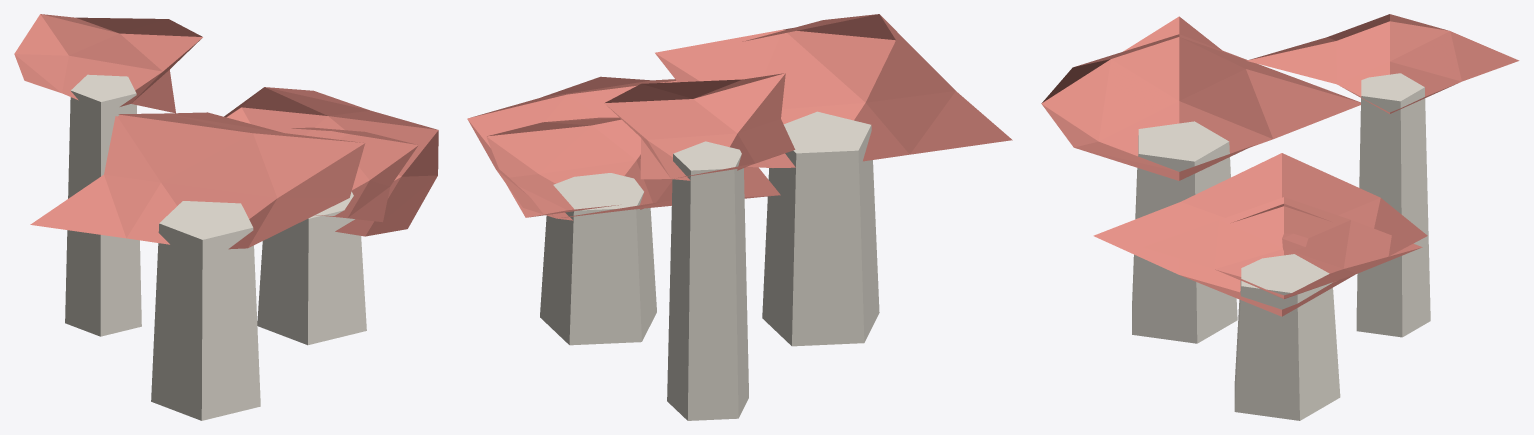
The model's file is mushroom_v14.glb.
The picture shows the model from 3 angles, left to right: view 1: azimuth 30°, elevation 25°; view 2: azimuth 150°, elevation 25°; view 3: azimuth 270°, elevation 25°; orthographic projection. The views are drawn at different scales.
Parts seen in each view (by area): view 1: lod0; view 2: lod0; view 3: lod0.
Part boxes in pixels (x1=…): lod0: x1=14, y1=14, x2=438, y2=420; lod0: x1=467, y1=14, x2=1012, y2=420; lod0: x1=1041, y1=14, x2=1519, y2=420.
Size of what is drawn, in the model's own units: 0.7044 by 0.4412 by 0.6304.
